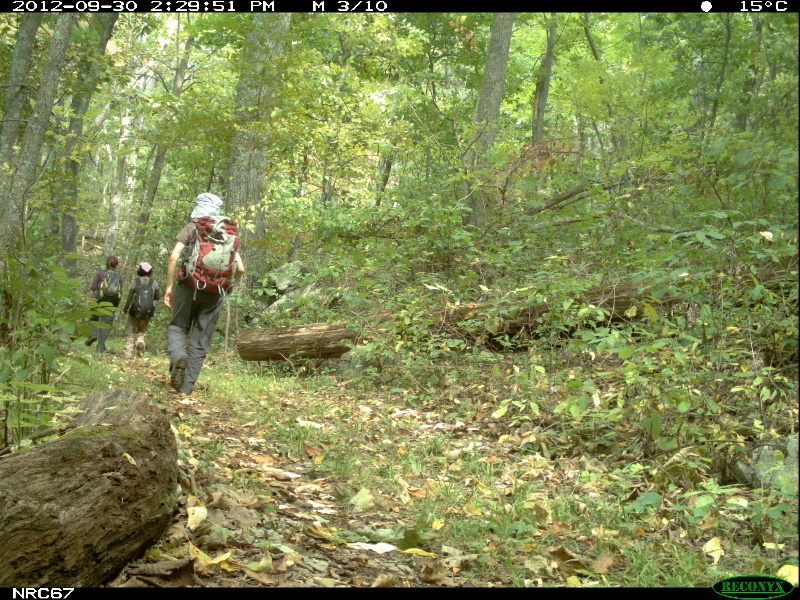human: (163, 186, 222, 405), (82, 252, 120, 365), (126, 261, 157, 366)
human legs: (163, 281, 219, 400), (84, 302, 115, 357), (124, 311, 154, 363)
